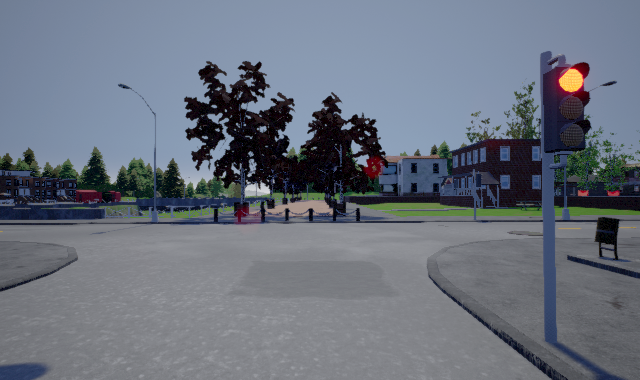traffic_light: (543, 54, 591, 169)
